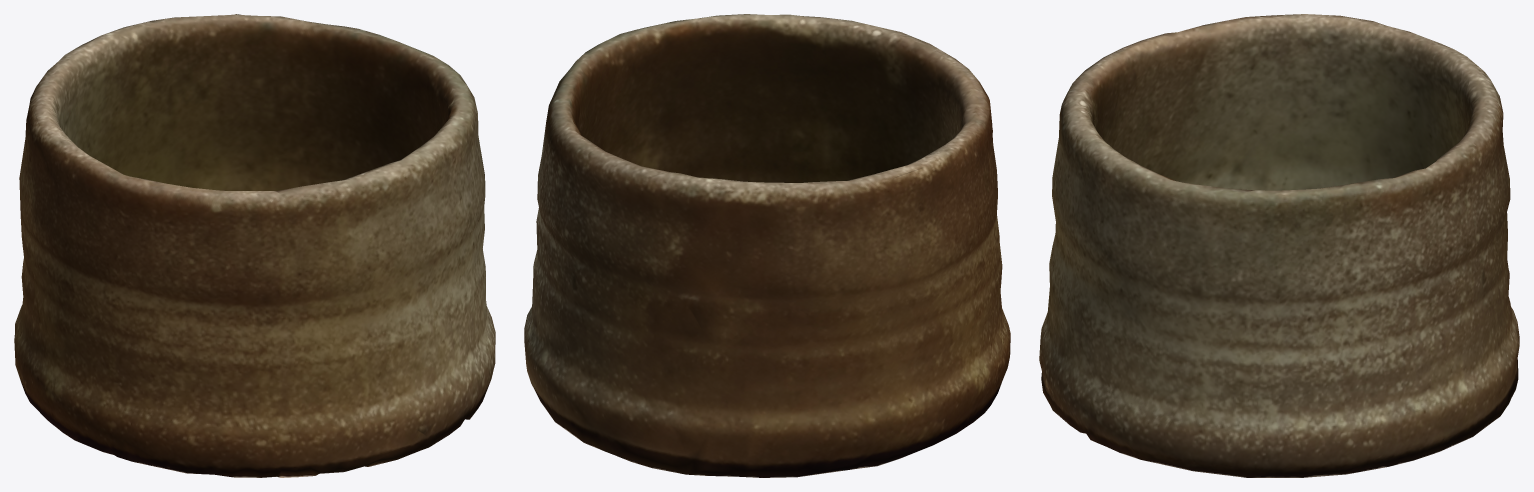
File: handcrafted_pottery_cup.glb
The picture shows the model from 3 angles, left to right: view 1: azimuth 30°, elevation 25°; view 2: azimuth 150°, elevation 25°; view 3: azimuth 270°, elevation 25°; orthographic projection.
Visible parts, largest first — view 1: Cup_Lowres_0; view 2: Cup_Lowres_0; view 3: Cup_Lowres_0.
Boxes of the visible parts, x1=… form: Cup_Lowres_0: x1=14, y1=14, x2=495, y2=477; Cup_Lowres_0: x1=524, y1=14, x2=1010, y2=477; Cup_Lowres_0: x1=1039, y1=14, x2=1519, y2=477.
Bounding box in the file's own units: 0.08 × 0.0515 × 0.0796.
Materials: 1 (1 with a texture image).
